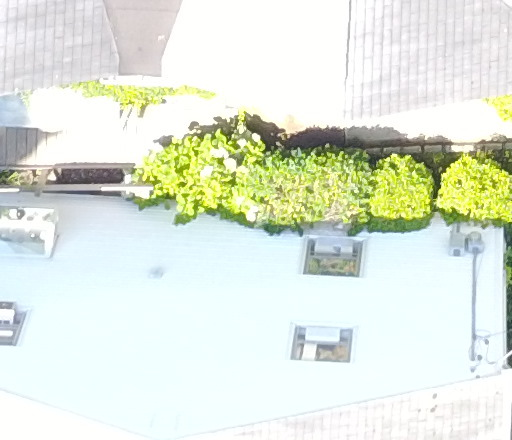cotnainer: (11, 165, 44, 189)
